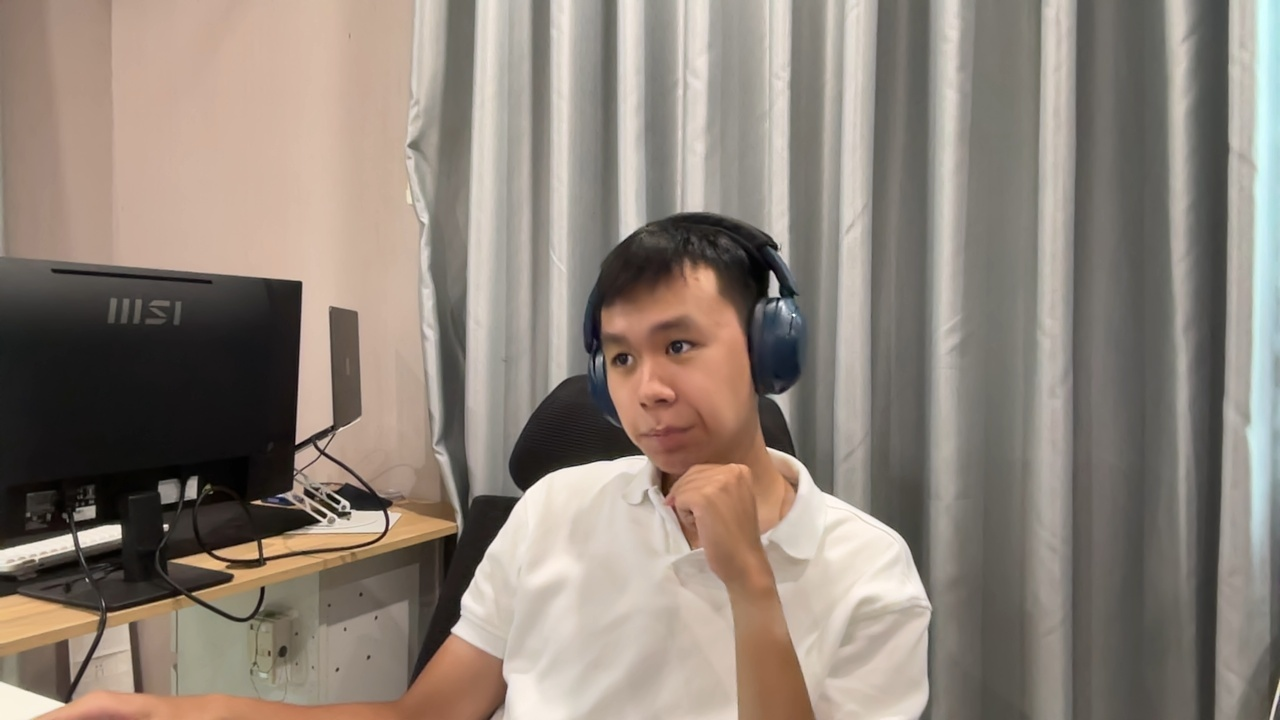over_ear: (584, 212, 807, 402), (661, 213, 807, 400), (706, 215, 807, 400)
